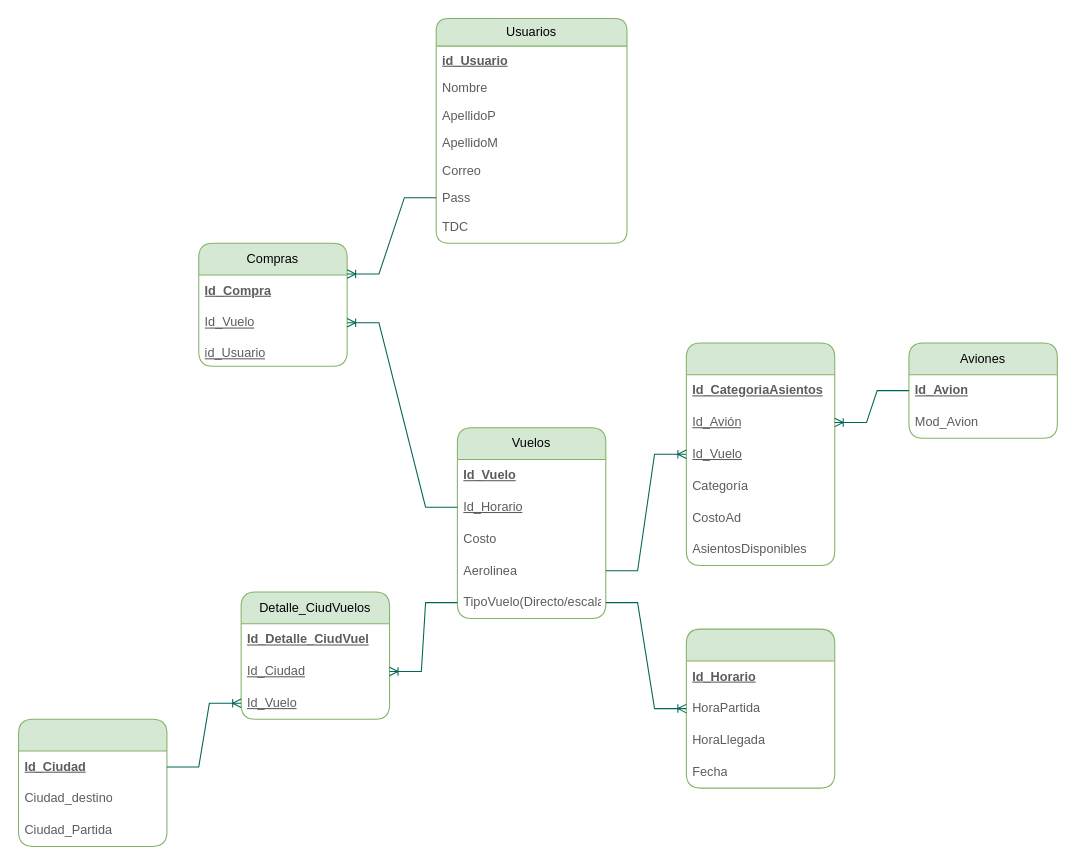
This 1076x865 diagram has some shape labels left out. Here are the shapes that lost their labels. From the top down, the box of each, then its label:
(685, 342, 835, 566): CategoriasAsientos
(685, 628, 835, 788): Horarios
(17, 718, 167, 846): Ciudades
